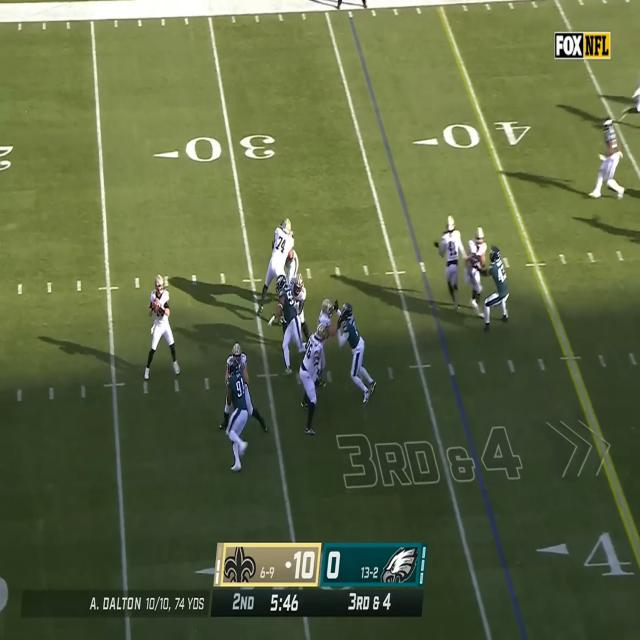football: (154, 300, 159, 314)
players: (220, 346, 262, 476), (143, 272, 184, 389), (336, 302, 378, 408), (258, 213, 297, 314), (273, 276, 311, 374), (590, 115, 630, 208), (297, 331, 329, 440), (482, 245, 512, 331), (440, 220, 465, 316), (468, 228, 492, 323), (315, 293, 336, 353)
